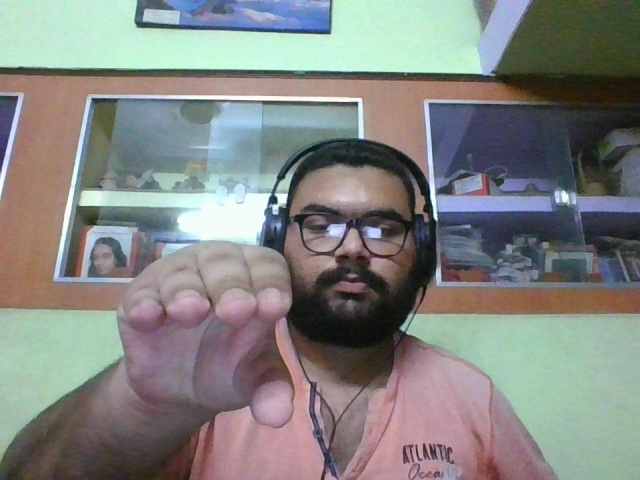no: (116, 237, 310, 444)
